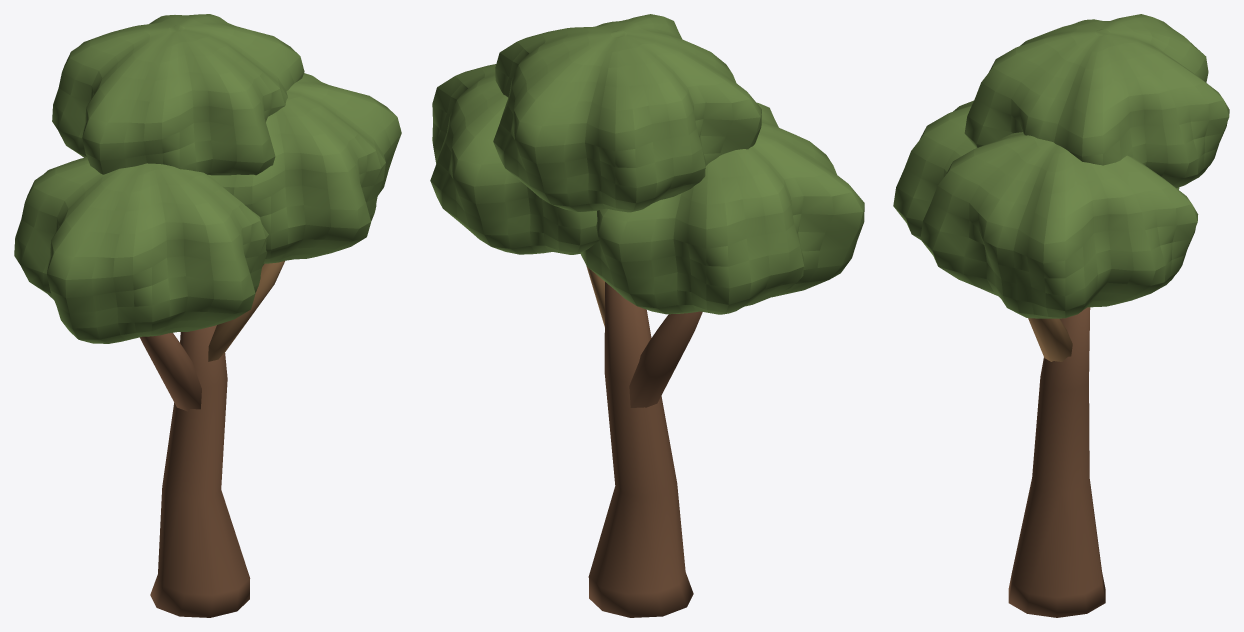
File: DEC_Tree_Broadleaf_A.fbx
3 renders of one model, left to right at view 1: azimuth 30°, elevation 25°; view 2: azimuth 150°, elevation 25°; view 3: azimuth 270°, elevation 25°, orthographic. The views are drawn at different scales.
Parts seen in each view (by area): view 1: DEC_Tree_Broadleaf_A_LOD0; view 2: DEC_Tree_Broadleaf_A_LOD0; view 3: DEC_Tree_Broadleaf_A_LOD0.
Part boxes in pixels (left/top/right/bottom): DEC_Tree_Broadleaf_A_LOD0: left=14, top=14, right=401, bottom=617; DEC_Tree_Broadleaf_A_LOD0: left=430, top=14, right=864, bottom=617; DEC_Tree_Broadleaf_A_LOD0: left=893, top=14, right=1229, bottom=617.
Size of what is drawn, in the model's own units: 2.35 by 3.29 by 1.78.
